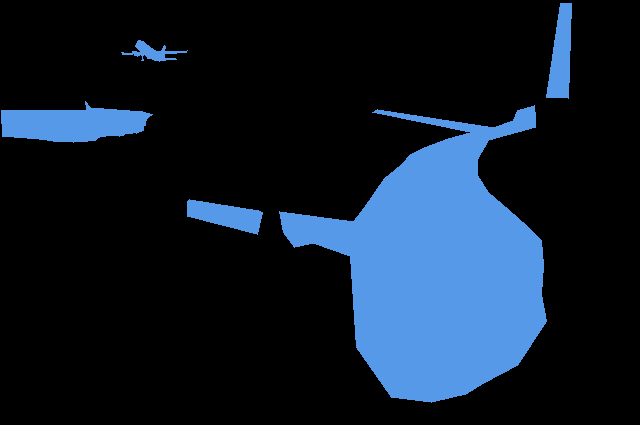Airplane: (187, 3, 571, 402), (1, 101, 153, 142), (121, 40, 188, 62)
